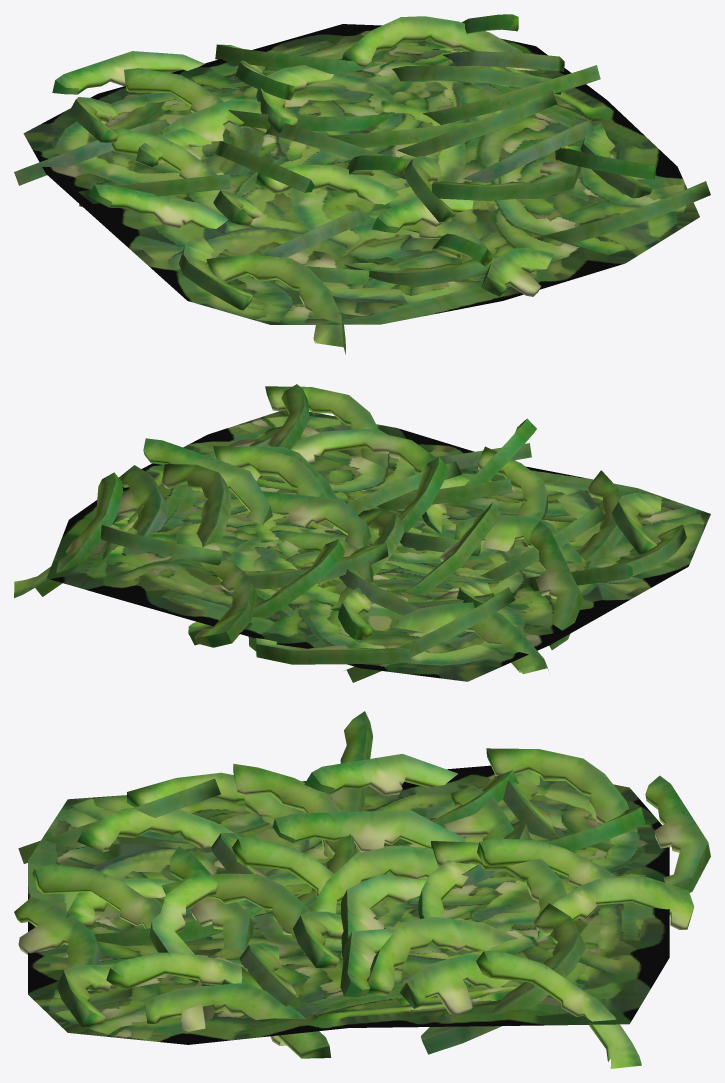
File: SM_Ingredients_01a.fbx
3 views of the same model, one above another, from view 1: azimuth 30°, elevation 25°; view 2: azimuth 150°, elevation 25°; view 3: azimuth 270°, elevation 25° (orthographic). The views are drawn at different scales.
Visible parts, largest first — view 1: SM_Ingredients_01a_LOD0; view 2: SM_Ingredients_01a_LOD0; view 3: SM_Ingredients_01a_LOD0.
Part boxes in pixels (x1=…): SM_Ingredients_01a_LOD0: x1=14, y1=14, x2=710, y2=354; SM_Ingredients_01a_LOD0: x1=14, y1=384, x2=710, y2=682; SM_Ingredients_01a_LOD0: x1=14, y1=711, x2=710, y2=1068.
Size of the model in its own units: 21.43 by 21.95 by 4.12.
